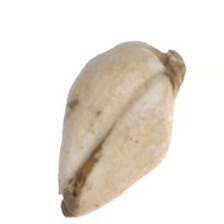L1: (58, 163, 90, 219), (155, 44, 186, 95)
L2: (57, 40, 185, 217)
